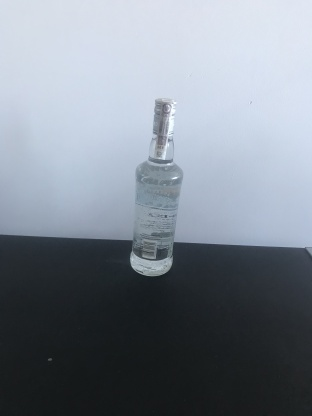nakretka: (150, 95, 179, 138)
